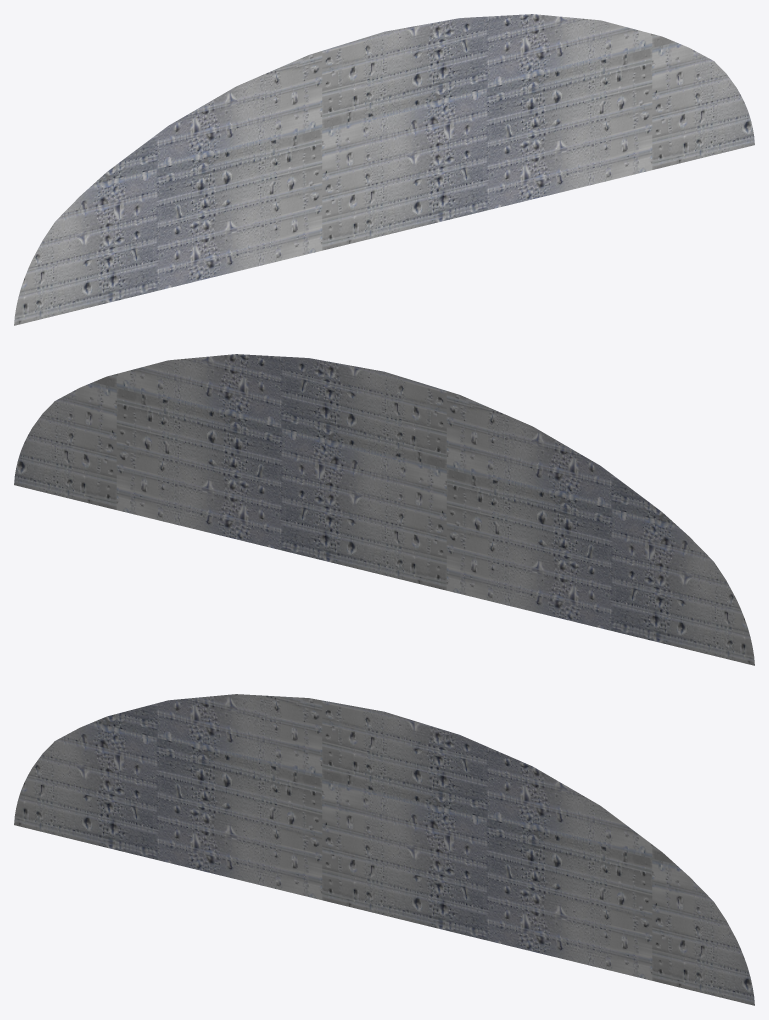
Rendered from sera3.1.fbx.
3 views of the same model, one above another, from view 1: azimuth 30°, elevation 25°; view 2: azimuth 150°, elevation 25°; view 3: azimuth 330°, elevation 25° (orthographic).
Parts seen in each view (by area): view 1: Cylinder.009; view 2: Cylinder.009; view 3: Cylinder.009.
Boxes of the visible parts, <box> form: Cylinder.009: <box>14,14,754,325</box>; Cylinder.009: <box>14,354,754,665</box>; Cylinder.009: <box>14,694,754,1005</box>.
Bounding box in the file's own units: 861 × 226 × 9.79e-05.
